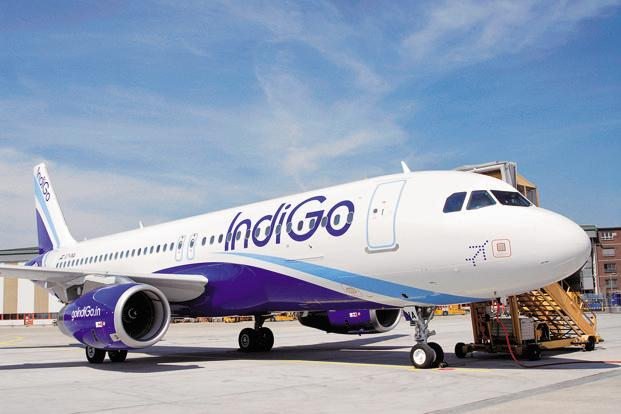aeroplane: (6, 134, 595, 357)
